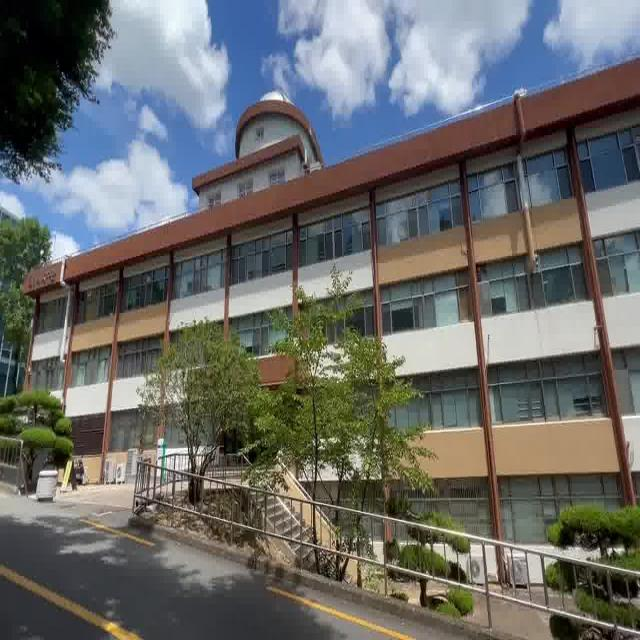building: (63, 82, 640, 388)
